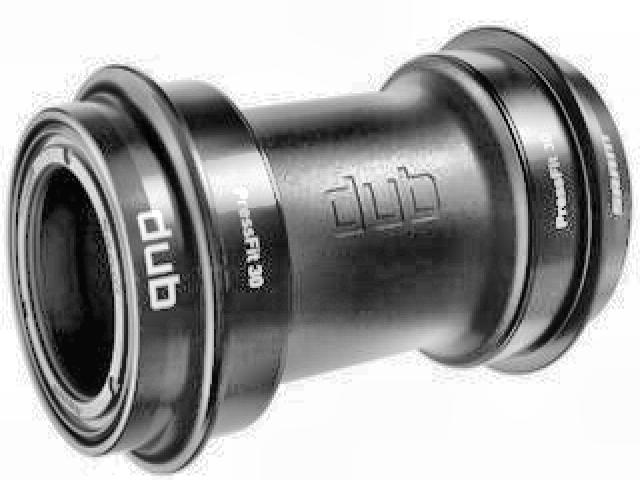bottom_bracket: (5, 17, 634, 475)
